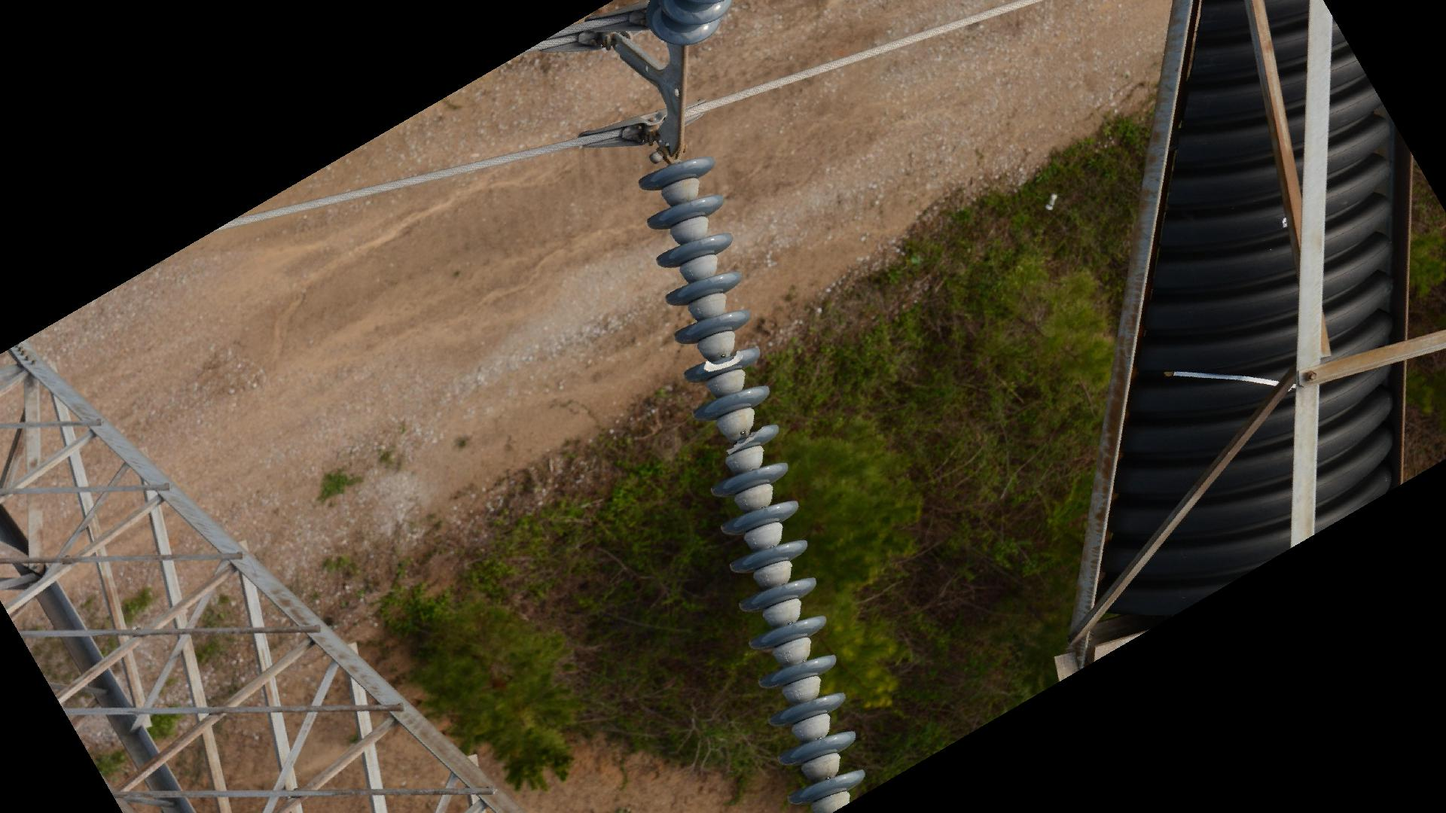insulator: (634, 153, 873, 811), (642, 1, 731, 51)
insulator_breakage: (724, 424, 764, 456), (700, 348, 746, 374)
